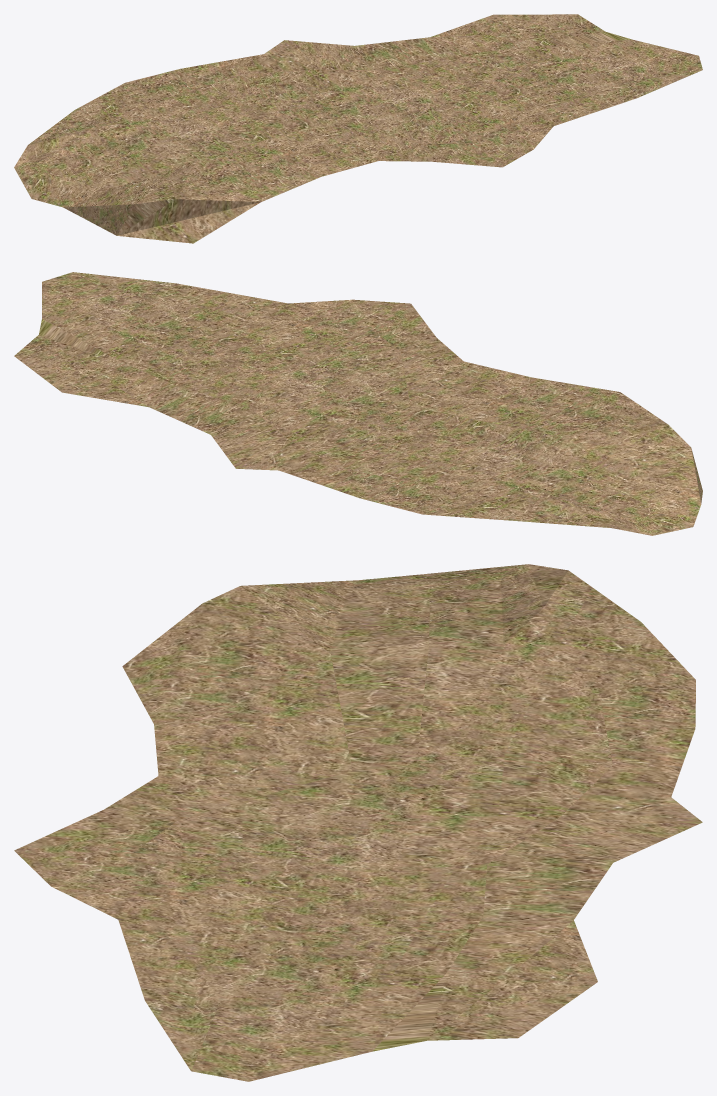
Rendered from caminoA.obj.
3 renders of one model, top to bottom at view 1: azimuth 30°, elevation 25°; view 2: azimuth 150°, elevation 25°; view 3: azimuth 270°, elevation 25°, orthographic. The views are drawn at different scales.
Visible parts, largest first — view 1: Plano.002; view 2: Plano.002; view 3: Plano.002.
Boxes of the visible parts, bbox=[...] form: Plano.002: bbox=[14, 14, 702, 243]; Plano.002: bbox=[14, 272, 702, 535]; Plano.002: bbox=[14, 564, 702, 1081].
Size of the model in its own units: 67.29 by 4.15 by 34.99.
Materials: 1 (1 with a texture image).
